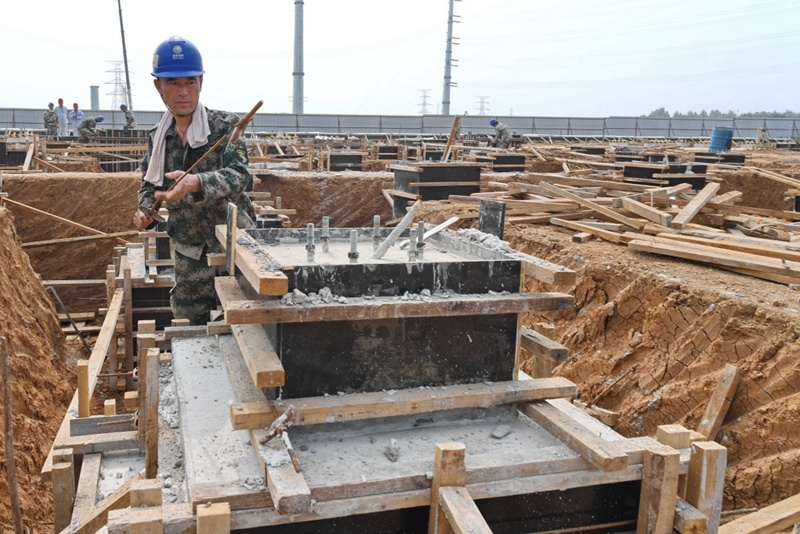blue: (148, 33, 205, 117), (489, 116, 498, 128), (119, 102, 128, 113), (95, 114, 104, 123), (48, 101, 54, 110)
red: (57, 97, 64, 106), (72, 102, 79, 110)
